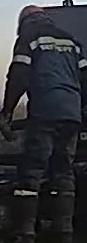gloves: (0, 104, 19, 145)
helmet: (15, 5, 47, 37)
vest: (7, 23, 87, 124)
